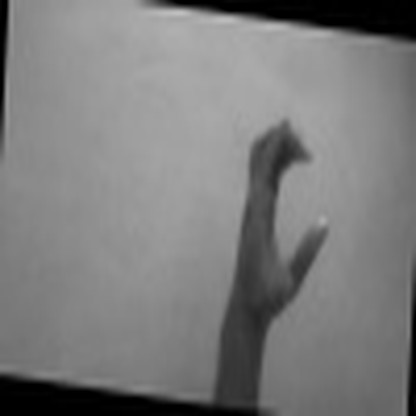c: (237, 116, 334, 311)
